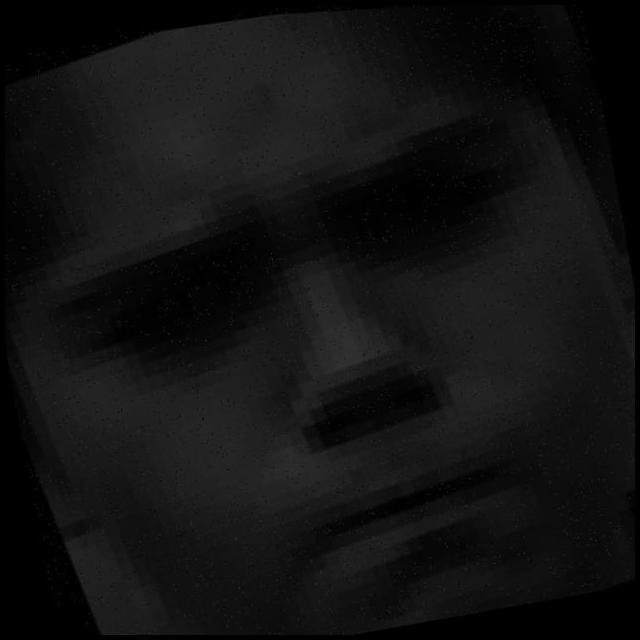Disgust: (42, 101, 635, 606)
